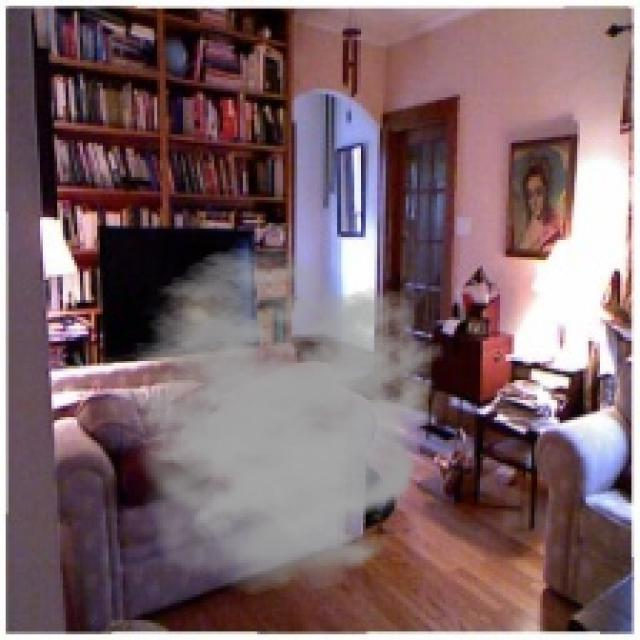smoke: (94, 246, 446, 594)
